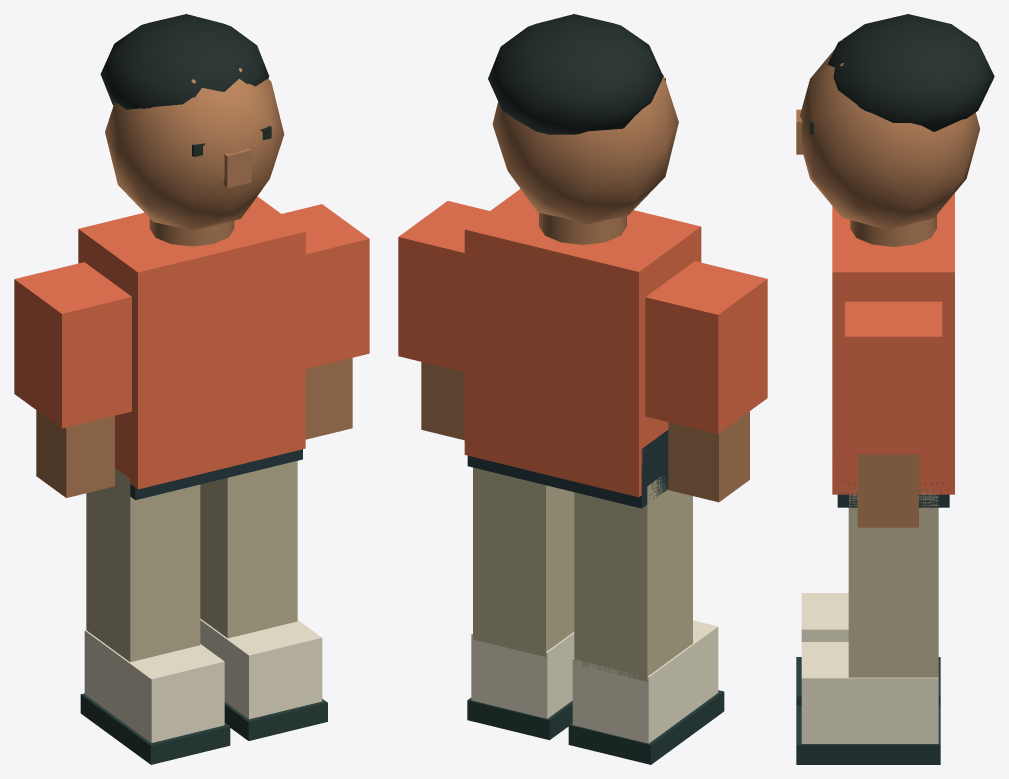
File: female-short.glb
3 views of the same model, side by side, from view 1: azimuth 30°, elevation 25°; view 2: azimuth 150°, elevation 25°; view 3: azimuth 270°, elevation 25° (orthographic). The views are drawn at different scales.
Visible parts, largest first — view 1: female-short; view 2: female-short; view 3: female-short.
Boxes of the visible parts, x1,y1,x2,y2 form: female-short: [14, 14, 369, 764]; female-short: [398, 14, 767, 764]; female-short: [796, 14, 994, 764].
Bounding box in the file's own units: 1.01 × 2.13 × 0.55.
